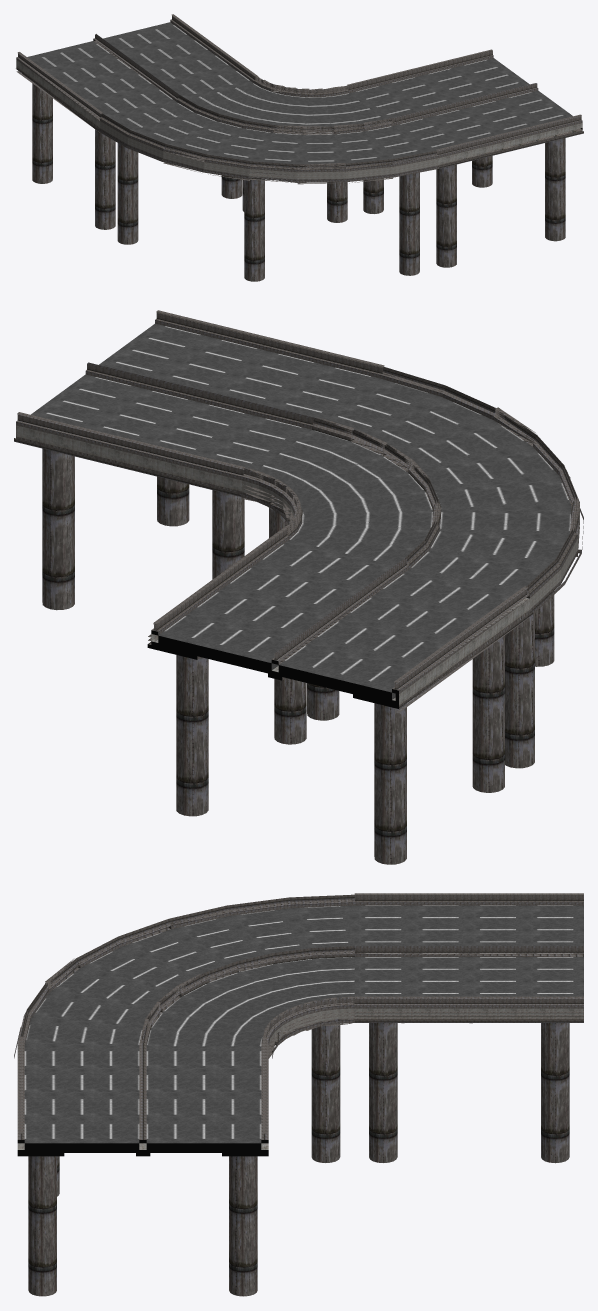
The model's file is Highway90_3.fbx.
3 renders of one model, top to bottom at view 1: azimuth 30°, elevation 25°; view 2: azimuth 150°, elevation 25°; view 3: azimuth 270°, elevation 25°, orthographic. The views are drawn at different scales.
Parts seen in each view (by area): view 1: materialD150, materialA150, materialC150; view 2: materialD150, materialA150, materialC150, materialB150; view 3: materialD150, materialA150, materialC150, materialB150.
Boxes of the visible parts, box(x1,y1,x2,y2) form: materialD150: box(27, 22, 572, 164); materialA150: box(16, 14, 583, 281); materialC150: box(16, 60, 582, 179); materialD150: box(31, 323, 571, 699); materialA150: box(14, 310, 583, 864); materialC150: box(16, 425, 579, 705); materialB150: box(147, 596, 528, 708); materialD150: box(24, 905, 583, 1143); materialA150: box(14, 893, 583, 1296); materialC150: box(17, 1008, 583, 1149); materialB150: box(17, 1140, 268, 1156).
Bounding box in the file's own units: 128 × 41.6 × 127.
